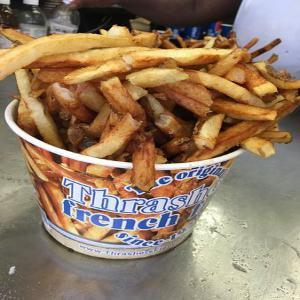fries_350cal: (3, 12, 298, 178)
